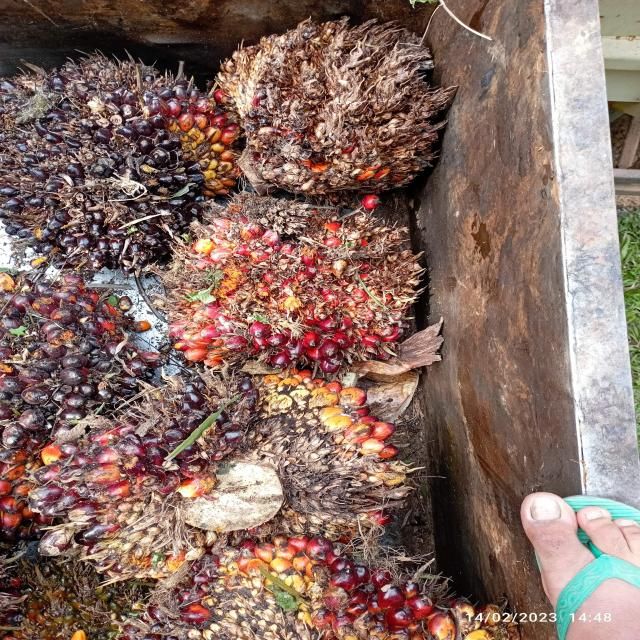fraksi 00: (0, 32, 231, 280)
fraksi 3: (148, 178, 440, 384)
fraksi 4: (202, 12, 460, 194)
